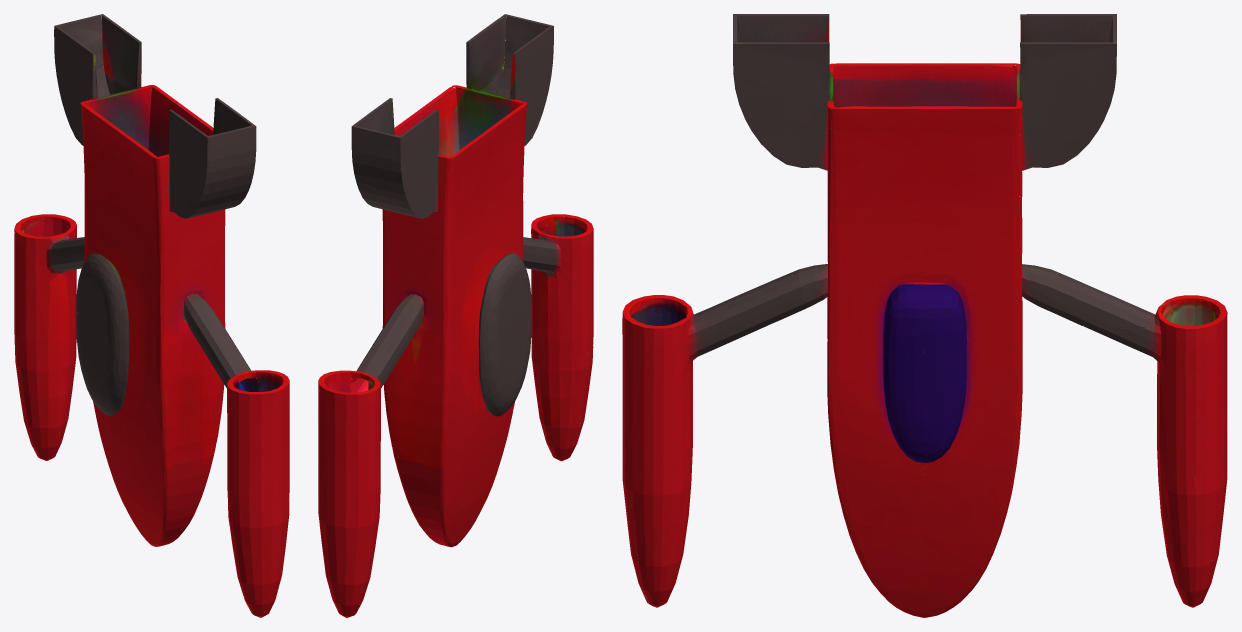
The model's file is enemy_space_ship_1.glb.
3 renders of one model, left to right at view 1: azimuth 30°, elevation 25°; view 2: azimuth 150°, elevation 25°; view 3: azimuth 270°, elevation 25°, orthographic. The views are drawn at different scales.
Visible parts, largest first — view 1: tripo_node_7b656127-4e22-4a30-a7df-b630d8bce571; view 2: tripo_node_7b656127-4e22-4a30-a7df-b630d8bce571; view 3: tripo_node_7b656127-4e22-4a30-a7df-b630d8bce571.
Part boxes in pixels (x1,y1,x2,y2): tripo_node_7b656127-4e22-4a30-a7df-b630d8bce571: (14,14,289,617); tripo_node_7b656127-4e22-4a30-a7df-b630d8bce571: (318,14,593,617); tripo_node_7b656127-4e22-4a30-a7df-b630d8bce571: (622,14,1227,617).
Bounding box in the file's own units: 0.2736 × 1 × 0.9345.
Materials: 1 (1 with a texture image).
